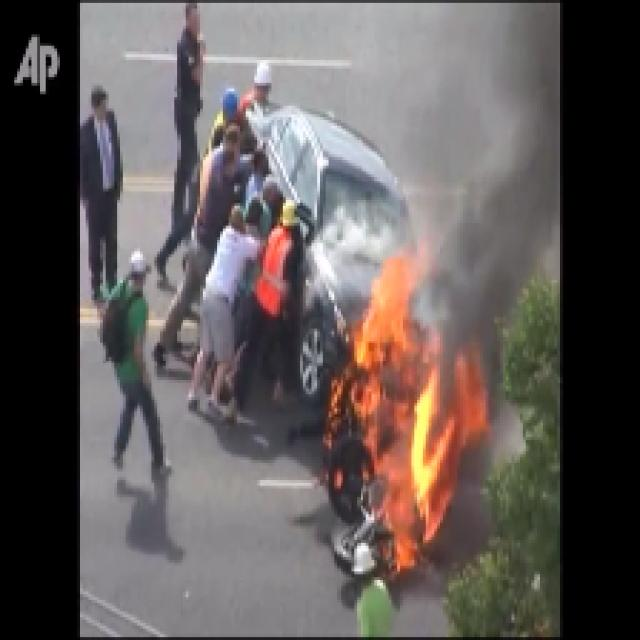fire: (348, 253, 454, 561)
smoke: (455, 11, 542, 348)
